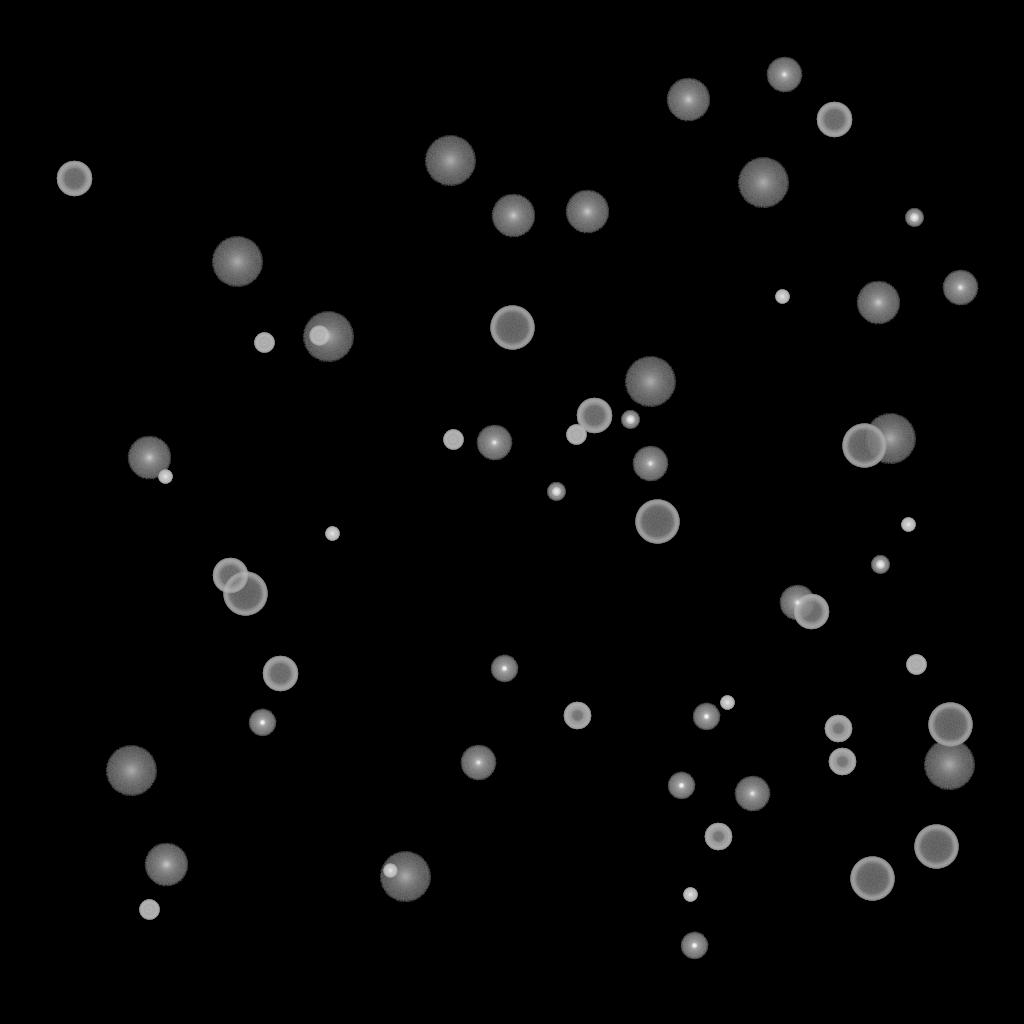depth:-10: (692, 703, 720, 731), (667, 772, 695, 800), (680, 932, 708, 960), (248, 709, 276, 737), (490, 655, 518, 683)
depth:-20: (547, 483, 565, 501), (905, 209, 923, 227), (871, 556, 889, 574), (621, 411, 639, 429)
depth:-30: (325, 527, 339, 541), (683, 888, 697, 902), (775, 290, 789, 304), (158, 470, 172, 484), (383, 864, 397, 878), (901, 518, 915, 532), (720, 696, 734, 710)
depth:-40: (309, 326, 329, 346), (566, 425, 586, 445), (443, 430, 463, 450), (906, 655, 926, 675), (254, 333, 274, 353), (139, 900, 159, 920)
depth:-50: (824, 715, 852, 743), (563, 702, 591, 730), (828, 748, 856, 776), (704, 823, 732, 851)
depth:-60: (576, 398, 612, 434), (212, 558, 248, 594), (56, 161, 92, 197), (262, 656, 298, 692), (793, 594, 829, 630), (816, 102, 852, 138)
depth:-70: (914, 825, 958, 869), (842, 424, 886, 468), (850, 857, 894, 901), (928, 703, 972, 747), (635, 500, 679, 544), (490, 306, 534, 350), (223, 572, 267, 616)
depth:0: (460, 745, 496, 781), (766, 57, 802, 93), (476, 425, 512, 461), (632, 446, 668, 482), (779, 585, 815, 621), (734, 776, 770, 812), (942, 270, 978, 306)
depth:10: (491, 194, 535, 238), (565, 190, 609, 234), (144, 843, 188, 887), (127, 436, 171, 480), (666, 78, 710, 122), (856, 281, 900, 325)
depth:20: (105, 746, 157, 796), (379, 852, 431, 902), (624, 357, 676, 407), (864, 414, 916, 464), (737, 158, 789, 208), (211, 237, 263, 287), (424, 136, 476, 186), (923, 740, 975, 790), (302, 312, 354, 362)
